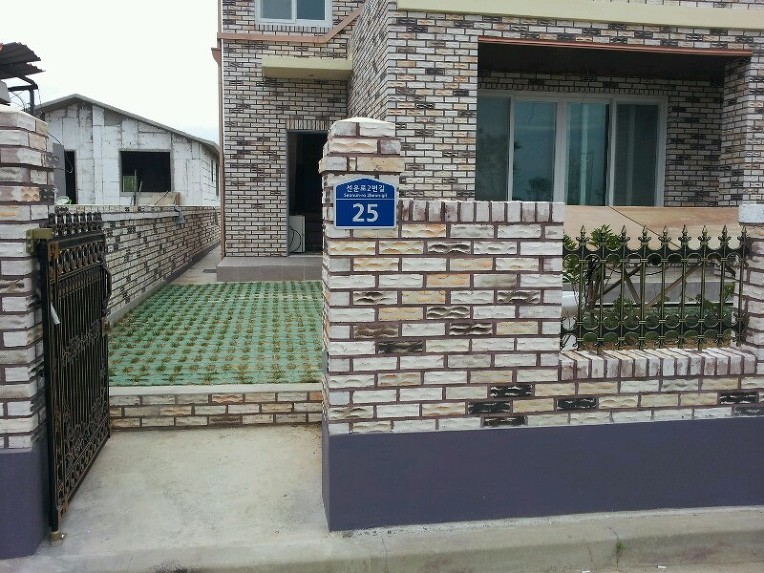building_license_plate1: (333, 177, 397, 230)
